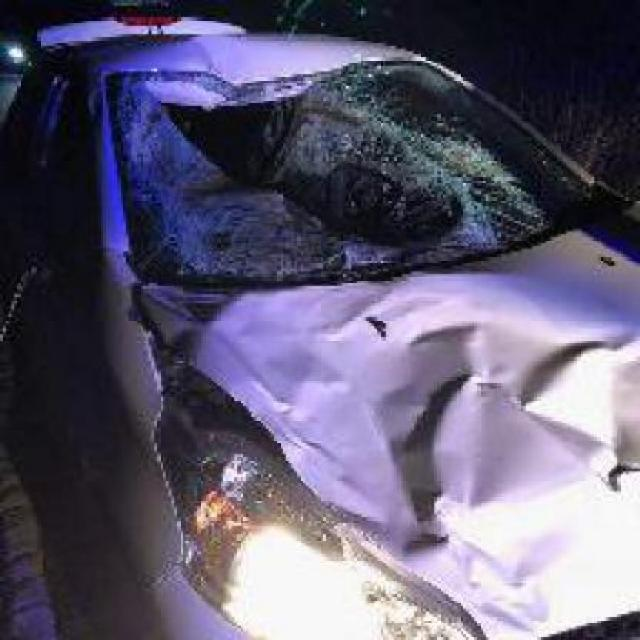damaged-hood: (160, 237, 637, 637)
damaged-windscreen: (112, 53, 572, 284)
